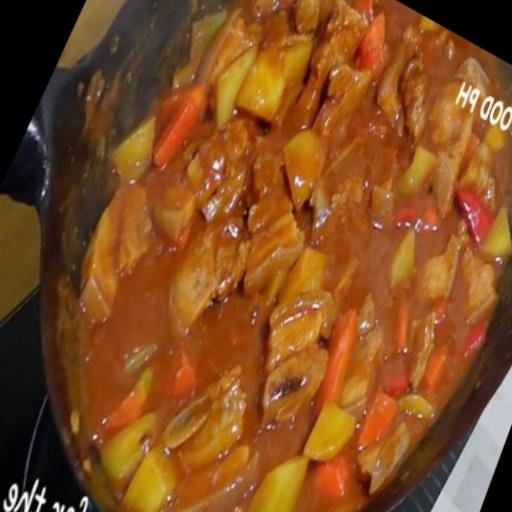pork caldereta: (87, 0, 510, 511)
